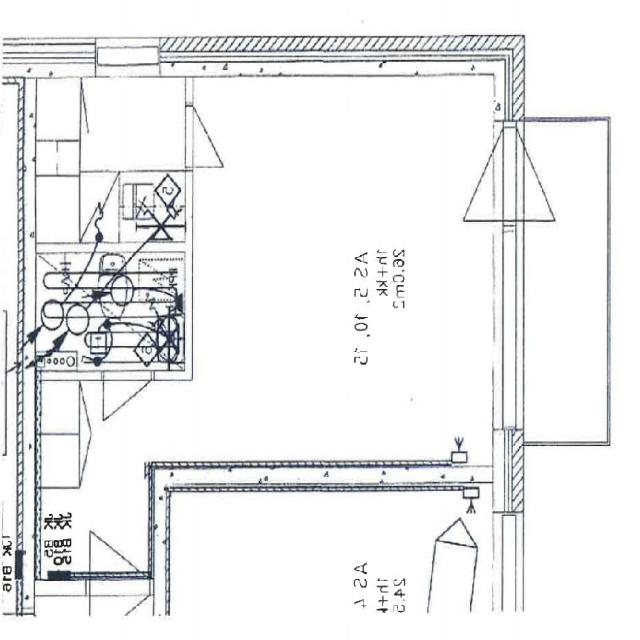door: (422, 127, 525, 220), (494, 127, 596, 220), (90, 498, 145, 596), (90, 571, 145, 640), (185, 105, 240, 167), (104, 370, 151, 442)
